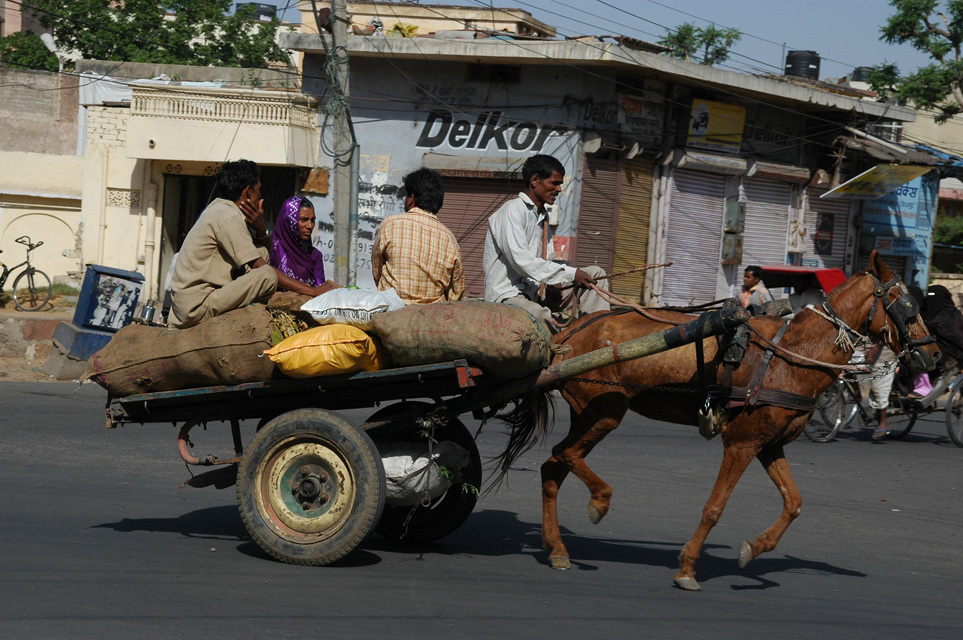horse: (479, 246, 946, 594)
